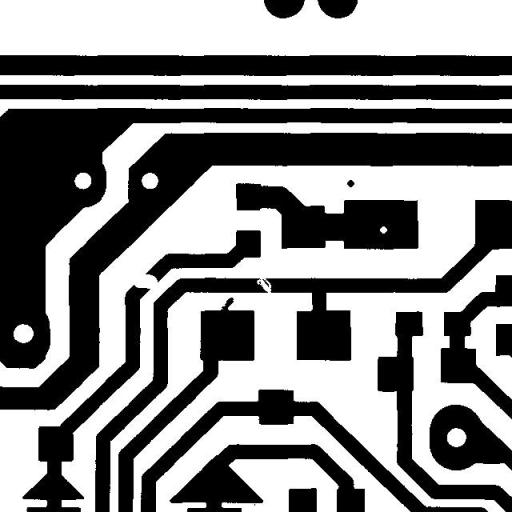copper: (339, 172, 362, 194)
open: (125, 266, 165, 296), (248, 267, 278, 302)
pin-hole: (372, 218, 394, 241)
spur: (211, 290, 241, 320)
